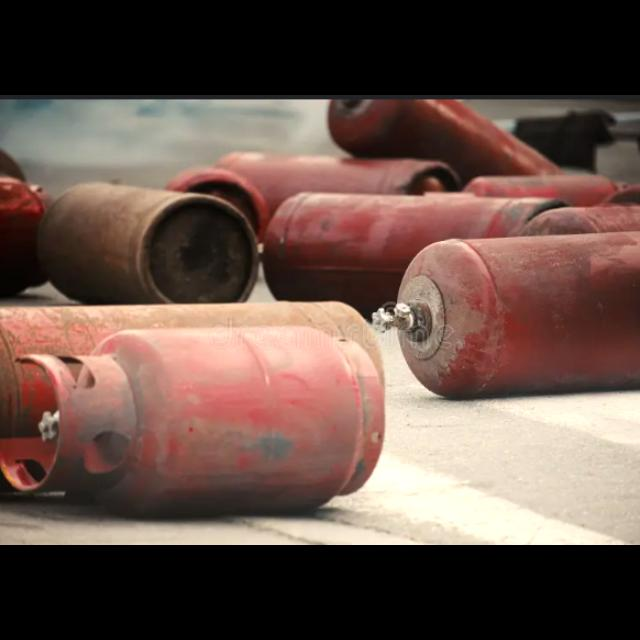Cylinders: (0, 325, 385, 512)
